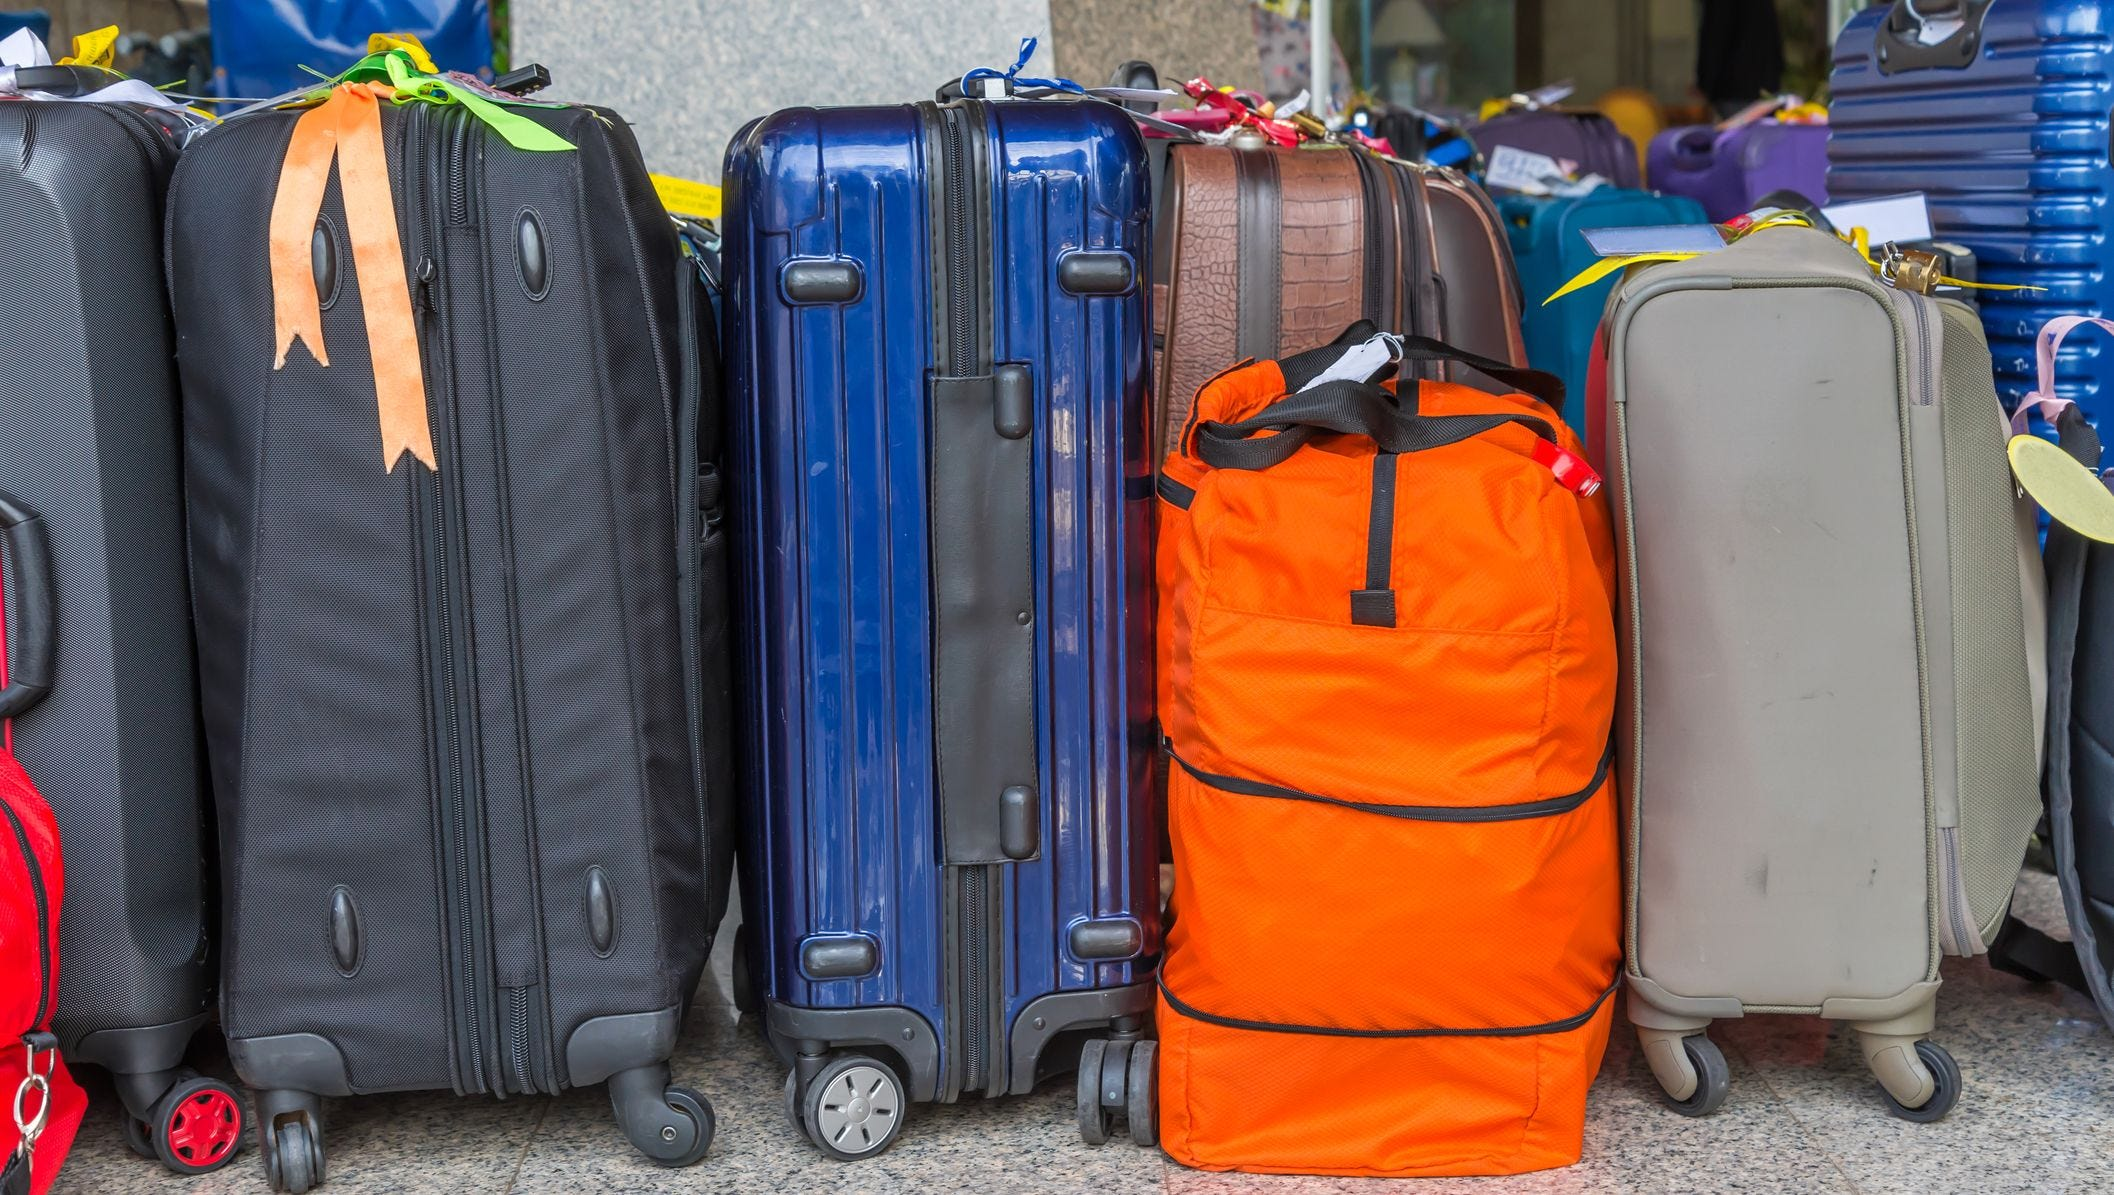backpack: (1130, 328, 1641, 1195)
luggage: (142, 55, 736, 1195), (706, 58, 1178, 1156), (1593, 200, 2057, 1117)
